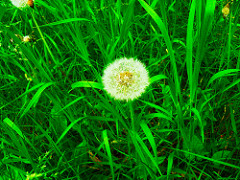dandelion white: (101, 56, 151, 101)
